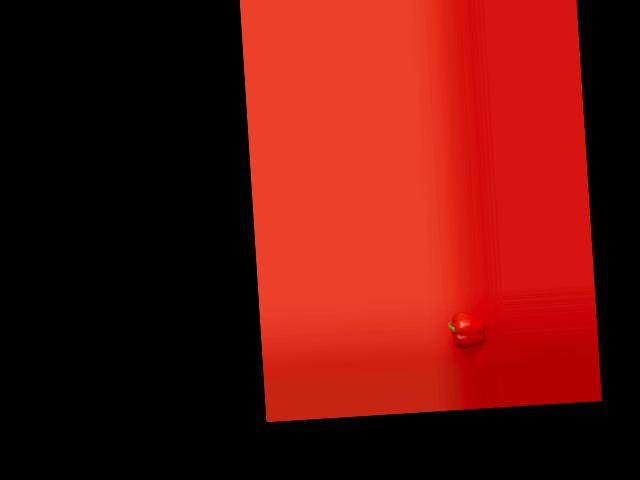bell_pepper: (445, 312, 489, 350)
